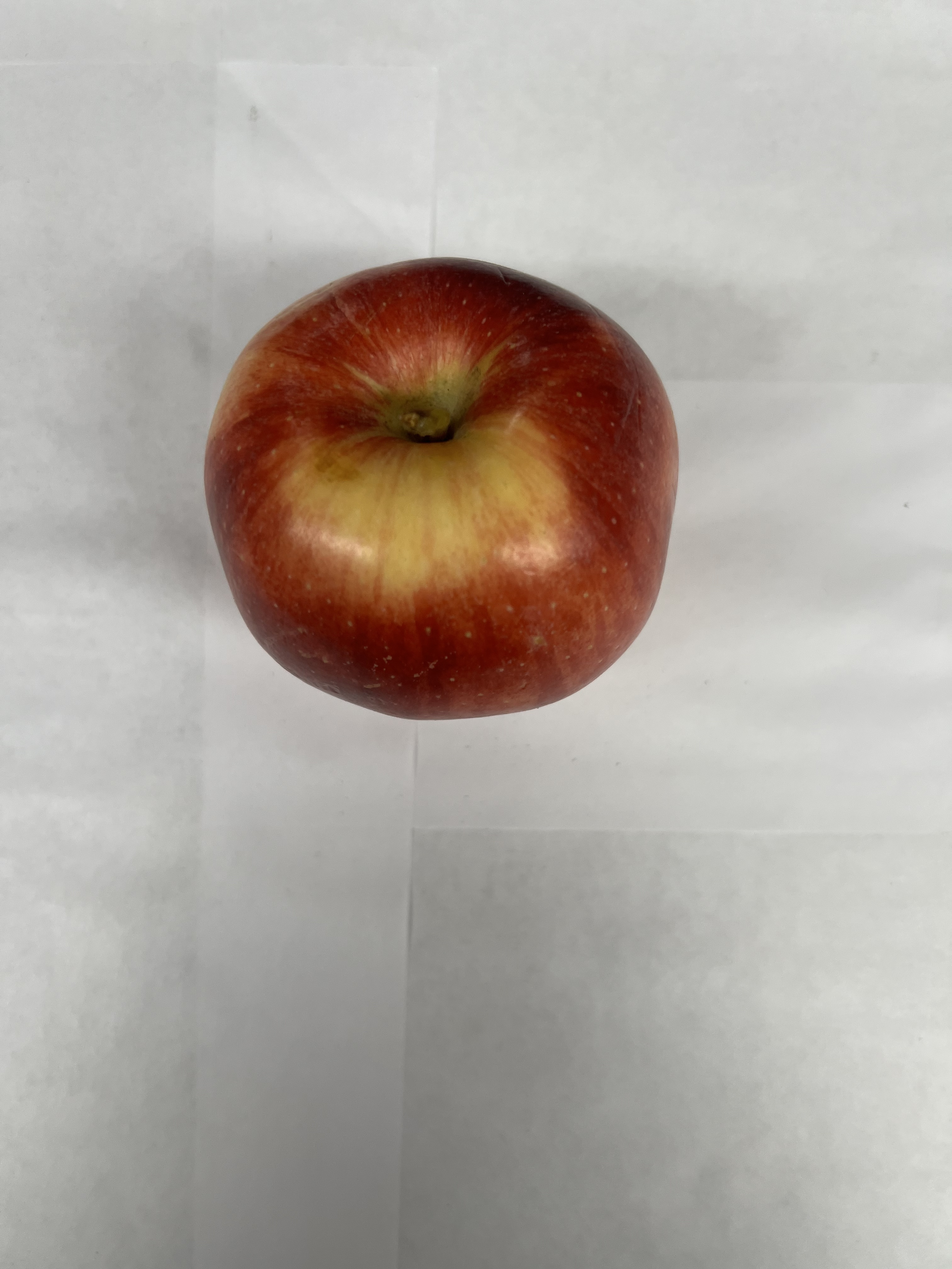produce: (194, 251, 691, 728)
